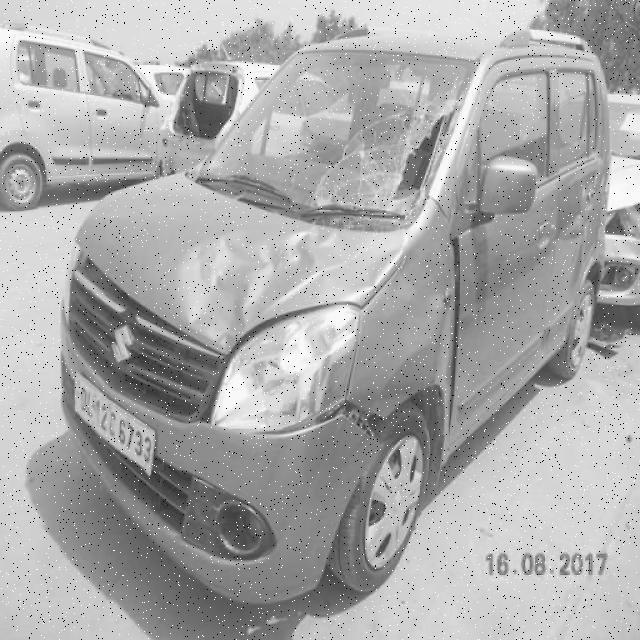car damage: (179, 226, 407, 348), (306, 93, 466, 233), (78, 239, 229, 359), (271, 397, 386, 452), (446, 239, 463, 443)
